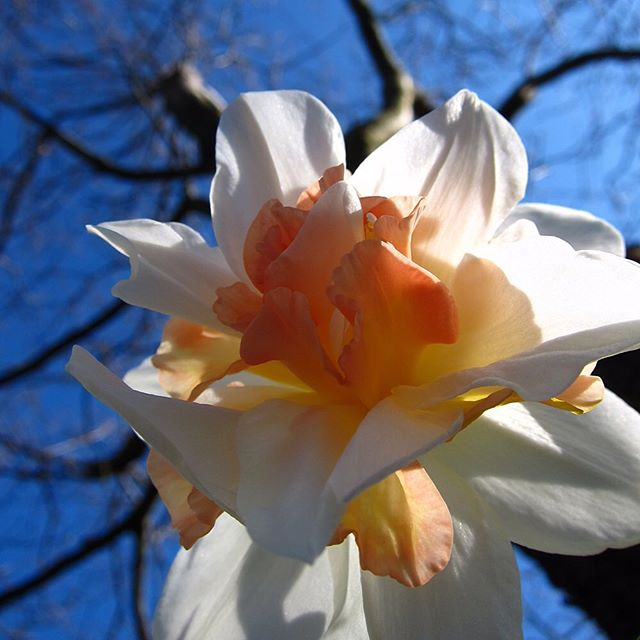flowers: (124, 96, 629, 639)
